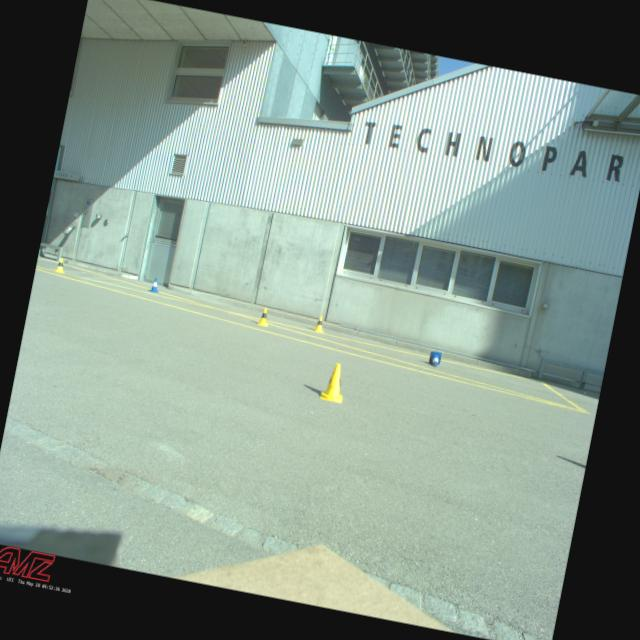blue_cone: (428, 351, 442, 368), (148, 278, 162, 294)
yellow_cone: (320, 361, 350, 404), (312, 314, 328, 334), (256, 307, 272, 327), (54, 257, 66, 274)
